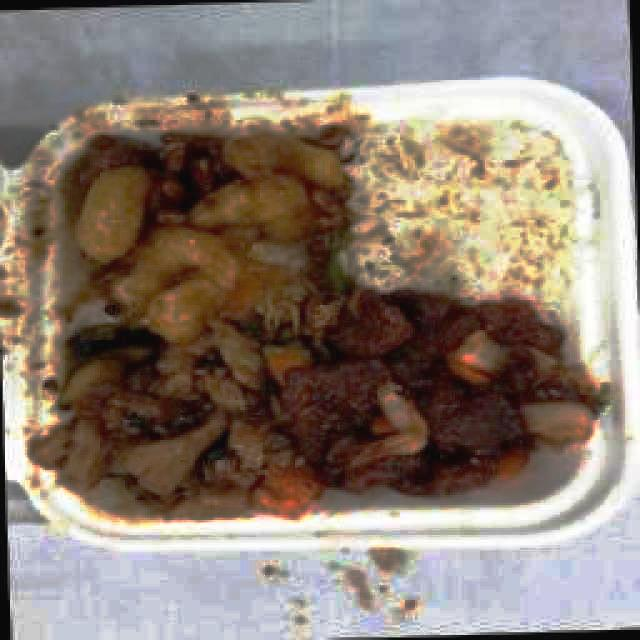Beijing Beef: (96, 316, 356, 507), (351, 320, 580, 488)
rice: (357, 125, 568, 302)
